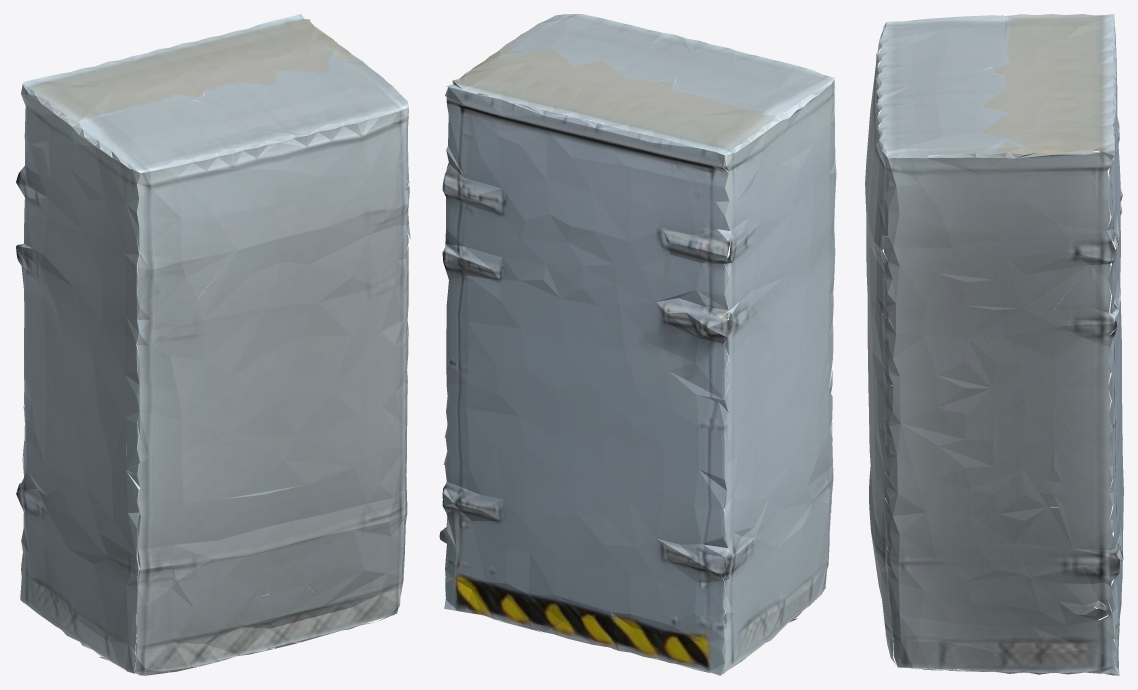
The model's file is door.glb.
3 views of the same model, side by side, from view 1: azimuth 30°, elevation 25°; view 2: azimuth 150°, elevation 25°; view 3: azimuth 270°, elevation 25° (orthographic).
Visible parts, largest first — view 1: world; view 2: world; view 3: world.
Boxes of the visible parts, x1,y1,x2,y2 form: world: (16, 14, 410, 675); world: (439, 14, 836, 675); world: (865, 14, 1123, 675).
Bounding box in the file's own units: 0.5112 × 0.8677 × 0.3846.
Materials: 1 (1 with a texture image).
